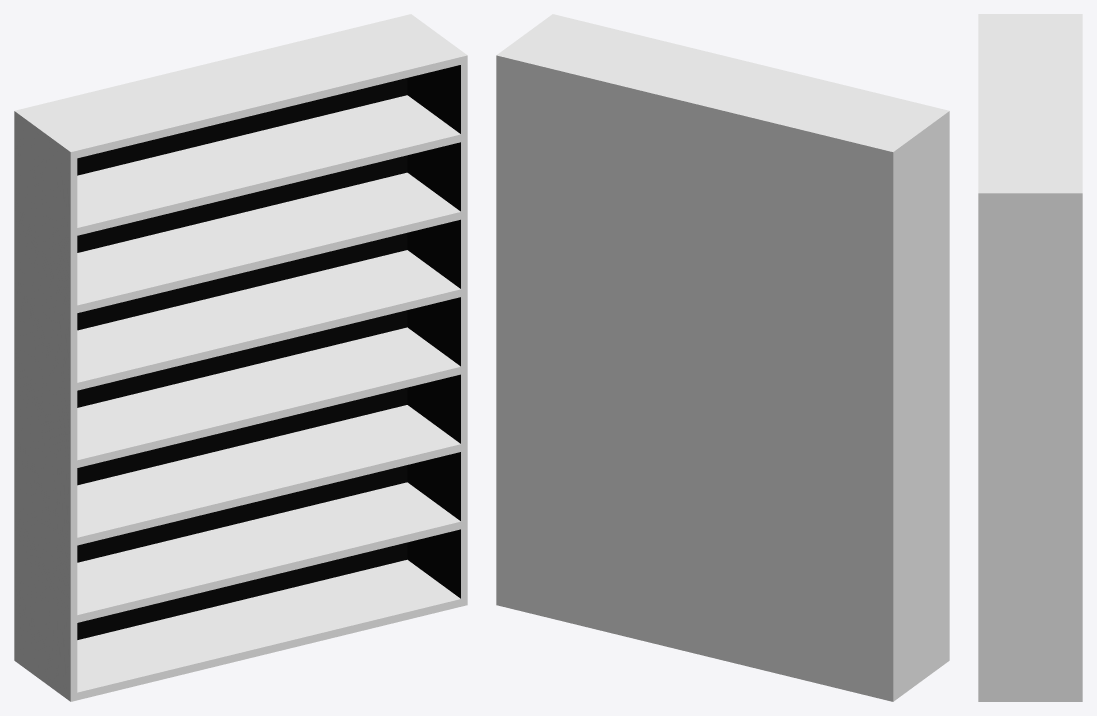
Rendered from Estanteria basicaBlancayNEgra.fbx.
3 renders of one model, left to right at view 1: azimuth 30°, elevation 25°; view 2: azimuth 150°, elevation 25°; view 3: azimuth 270°, elevation 25°, orthographic. The views are drawn at different scales.
Parts seen in each view (by area): view 1: Estanteria; view 2: Estanteria; view 3: Estanteria.
Part boxes in pixels (x1=…): Estanteria: x1=14, y1=14, x2=467, y2=701; Estanteria: x1=496, y1=14, x2=949, y2=701; Estanteria: x1=978, y1=14, x2=1082, y2=701.
Bounding box in the file's own units: 200 × 265 × 49.35.
